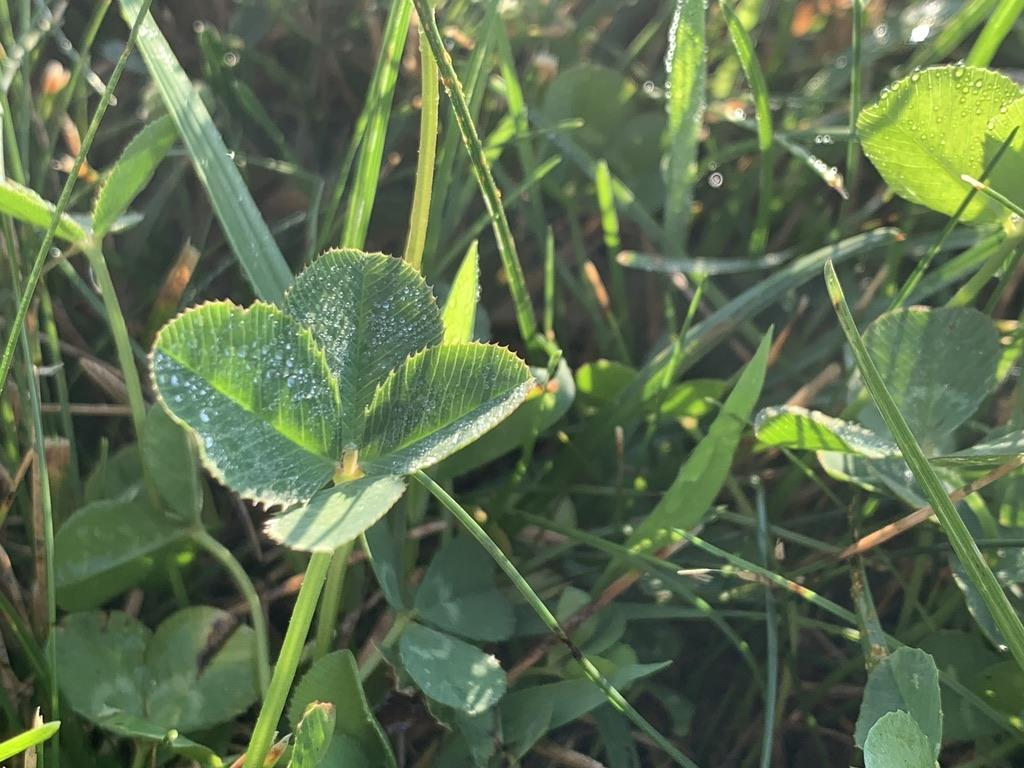5-Leaf-Clovers: (150, 246, 534, 553)
